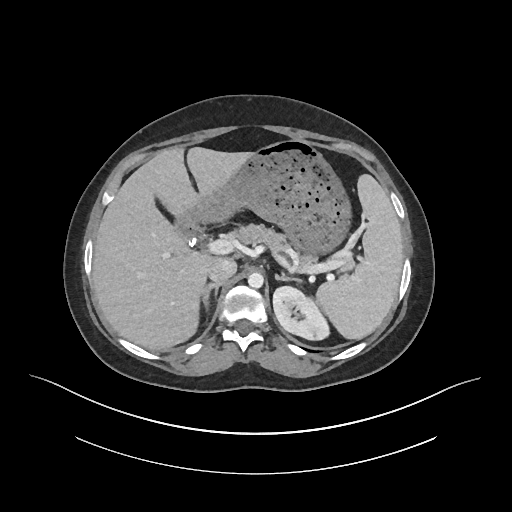Lesion: (308, 329, 322, 343)
